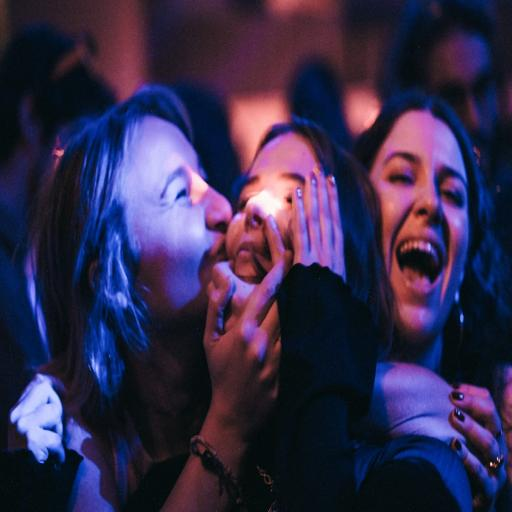face: (371, 111, 469, 353), (122, 116, 231, 323), (227, 133, 320, 283)
